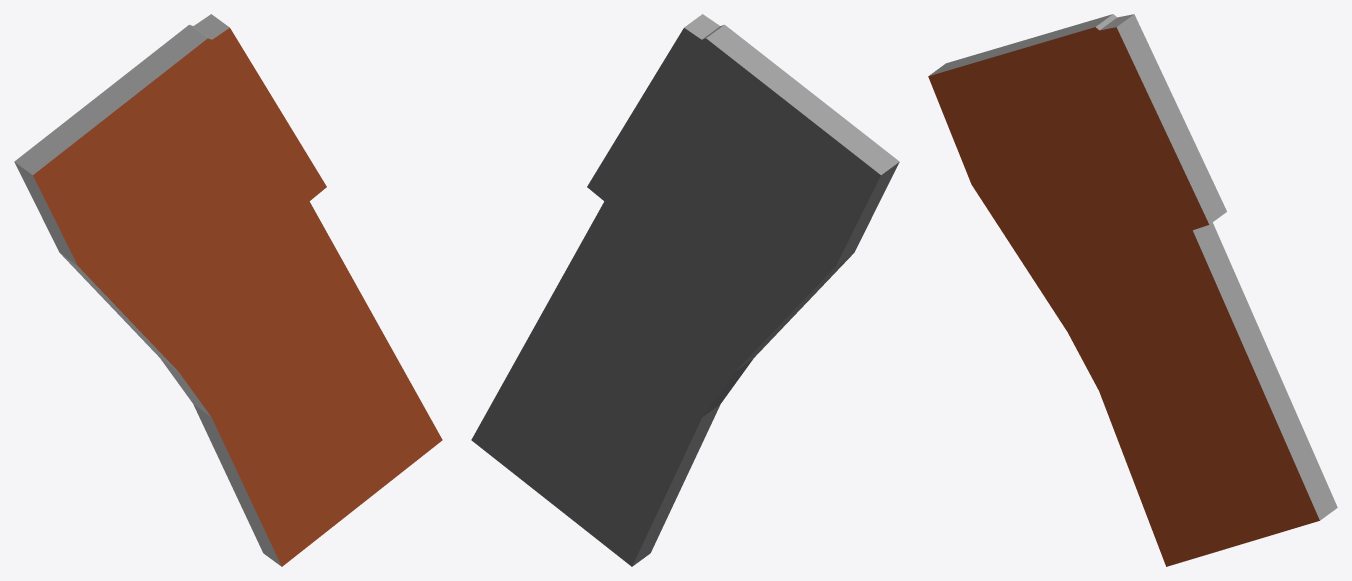
File: construction_0125_assumed_A_Grande_construcao_h6m.obj
3 renders of one model, left to right at view 1: azimuth 30°, elevation 25°; view 2: azimuth 150°, elevation 25°; view 3: azimuth 330°, elevation 25°, orthographic. The views are drawn at different scales.
Visible parts, largest first — view 1: construction_0125_assumed_A_Grande_construcao; view 2: construction_0125_assumed_A_Grande_construcao; view 3: construction_0125_assumed_A_Grande_construcao.
Part boxes in pixels (<box>): construction_0125_assumed_A_Grande_construcao: <box>14,14,442,566</box>; construction_0125_assumed_A_Grande_construcao: <box>471,14,899,566</box>; construction_0125_assumed_A_Grande_construcao: <box>928,14,1337,566</box>.
Bounding box in the file's own units: 76.08 × 97.9 × 6.
